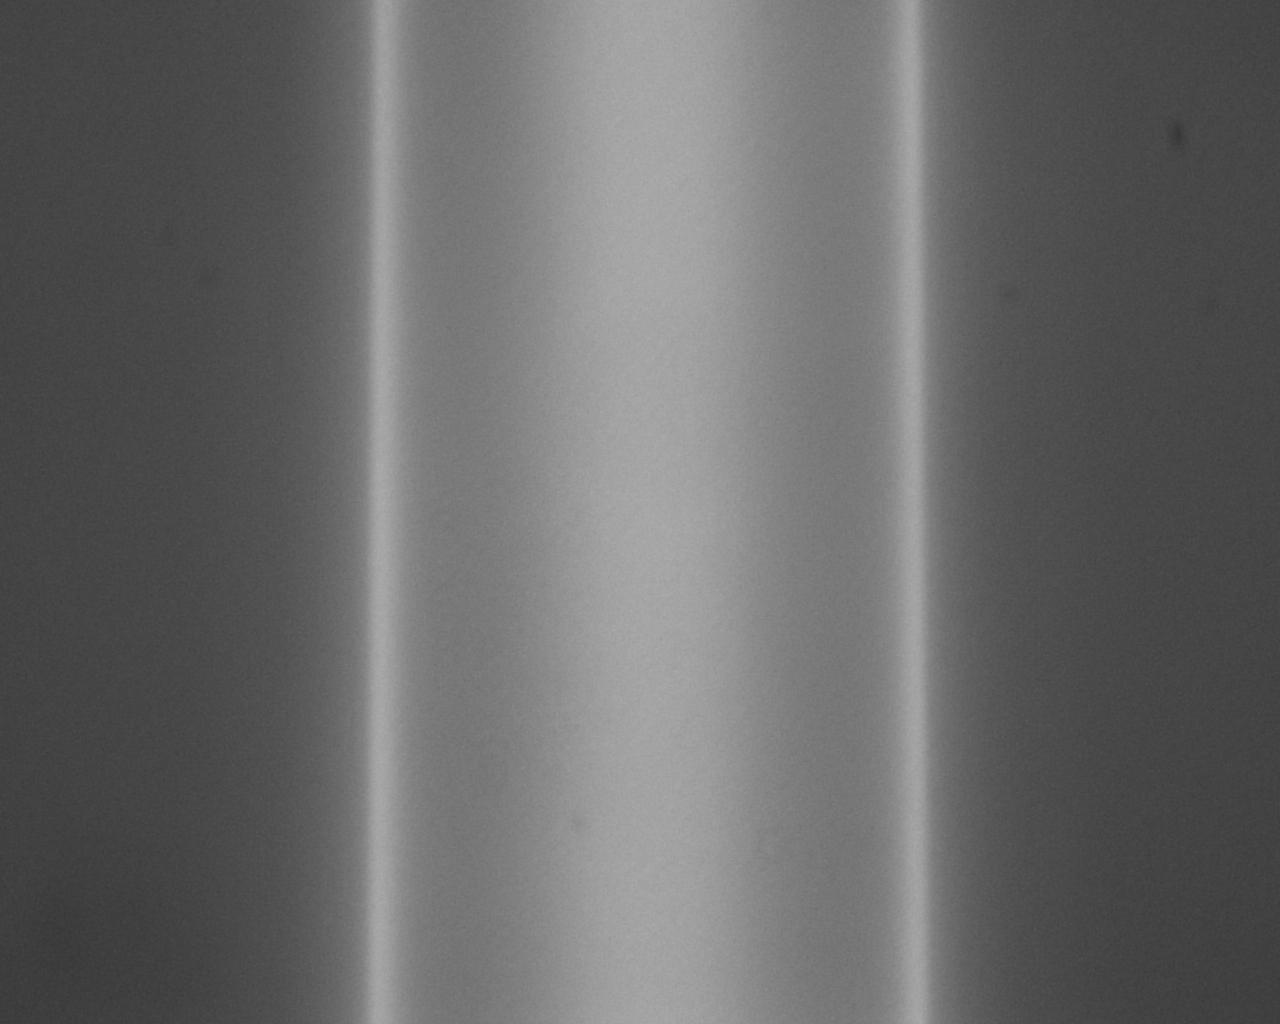fiber: (1017, 491, 1280, 1024), (1009, 0, 1280, 491), (223, 0, 428, 491)
